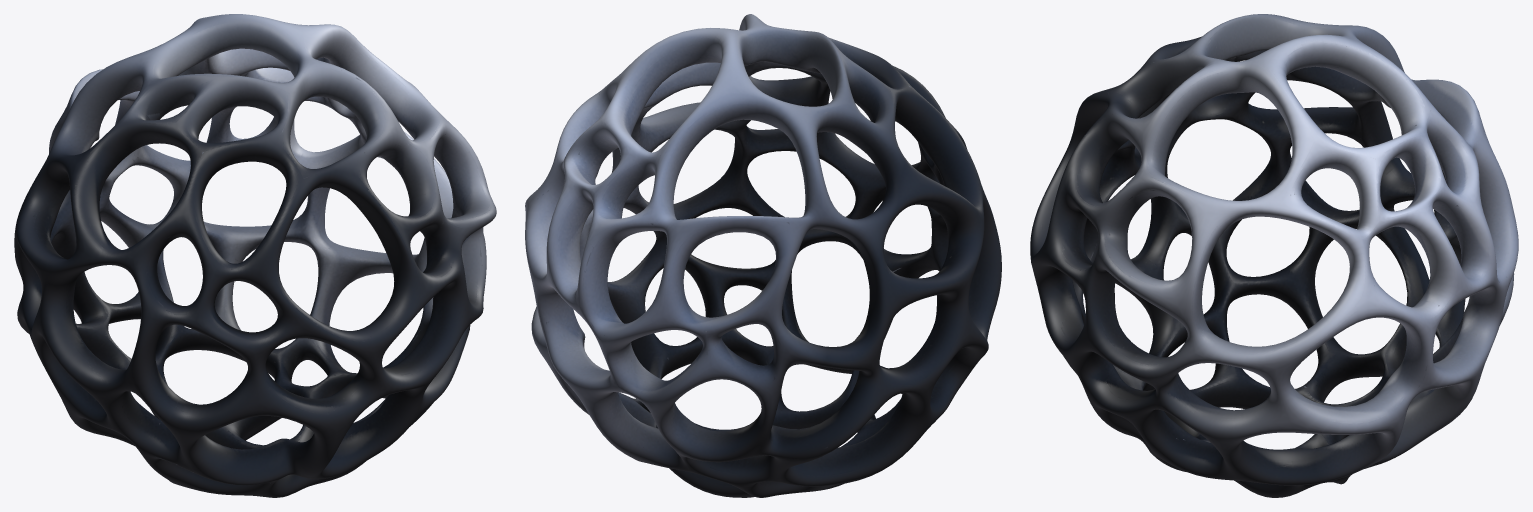
File: abstract_design.glb
3 renders of one model, left to right at view 1: azimuth 30°, elevation 25°; view 2: azimuth 150°, elevation 25°; view 3: azimuth 270°, elevation 25°, orthographic.
Visible parts, largest first — view 1: VoronoiDyno.Bake; view 2: VoronoiDyno.Bake; view 3: VoronoiDyno.Bake.
Boxes of the visible parts, x1,y1,x2,y2 form: VoronoiDyno.Bake: (14,14,496,497); VoronoiDyno.Bake: (525,14,1001,497); VoronoiDyno.Bake: (1030,14,1518,497).
Bounding box in the file's own units: 187 × 190 × 185.
Materials: 1 (1 with a texture image).
